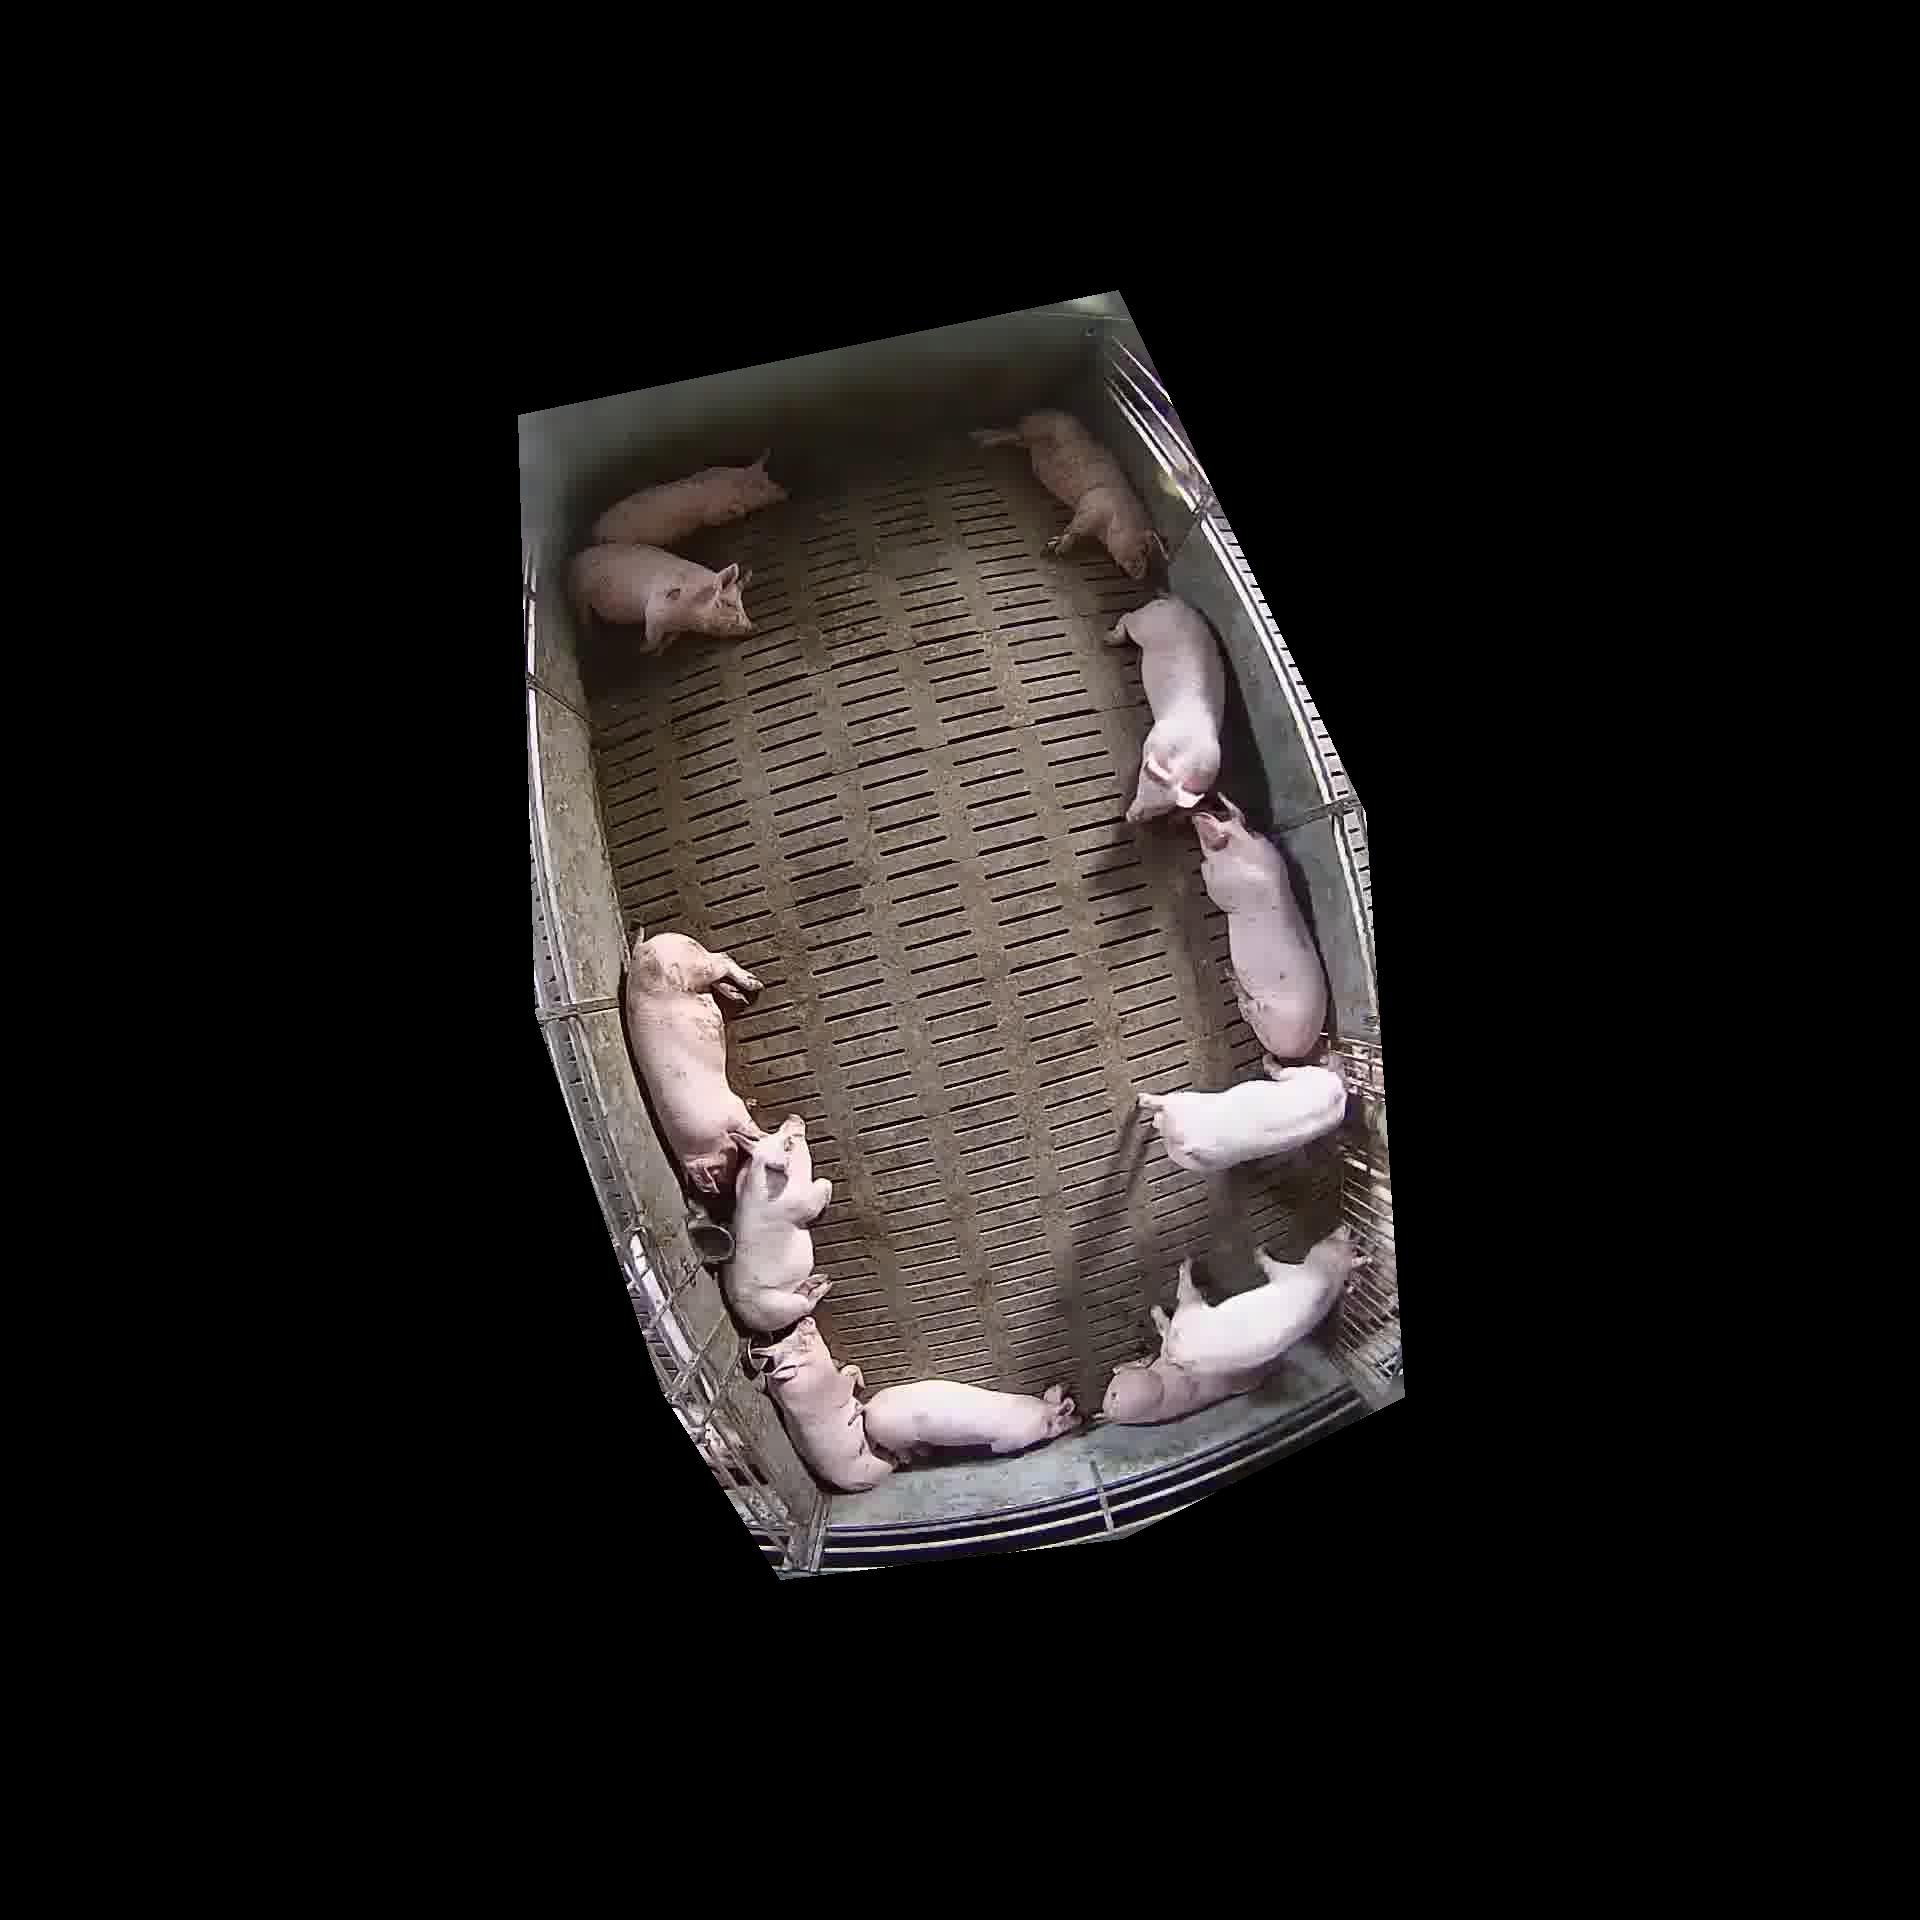pig: (624, 932, 760, 1194), (1192, 796, 1327, 1058), (972, 410, 1160, 578), (1152, 1224, 1363, 1371), (1106, 596, 1224, 821), (749, 1317, 893, 1491), (723, 1115, 832, 1333), (1138, 1065, 1347, 1171), (570, 543, 751, 652), (593, 452, 786, 547), (863, 1380, 1080, 1463), (1094, 1356, 1254, 1421)
